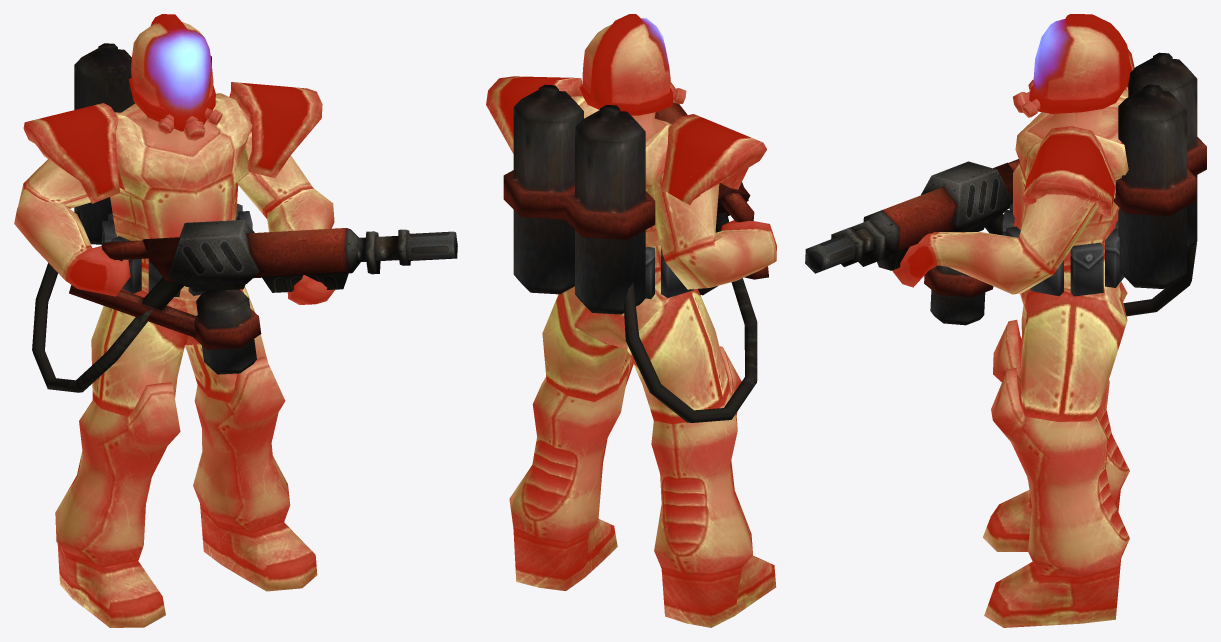
The model's file is InfantryFlamethrower.glb.
3 views of the same model, side by side, from view 1: azimuth 30°, elevation 25°; view 2: azimuth 150°, elevation 25°; view 3: azimuth 270°, elevation 25° (orthographic). The views are drawn at different scales.
Parts seen in each view (by area): view 1: Mesh, Mesh.002, Spine_Bone_3, Mesh.001; view 2: Mesh, Spine_Bone_3, Mesh.002, Mesh.001; view 3: Mesh, Spine_Bone_3, Mesh.002, Mesh.001.
Part boxes in pixels (x1,y1,x2,y2): Mesh: (14, 14, 334, 627); Mesh.002: (32, 210, 457, 392); Spine_Bone_3: (74, 43, 211, 244); Mesh.001: (102, 203, 252, 296); Mesh: (486, 14, 776, 627); Spine_Bone_3: (503, 84, 655, 314); Mesh.002: (624, 100, 768, 422); Mesh.001: (645, 247, 693, 298); Mesh: (892, 14, 1134, 627); Spine_Bone_3: (1113, 52, 1206, 288); Mesh.002: (805, 159, 1196, 325); Mesh.001: (1002, 204, 1124, 296).
Bounding box in the file's own units: 0.4907 × 0.8923 × 0.5808.
Materials: 4 (4 with a texture image).
